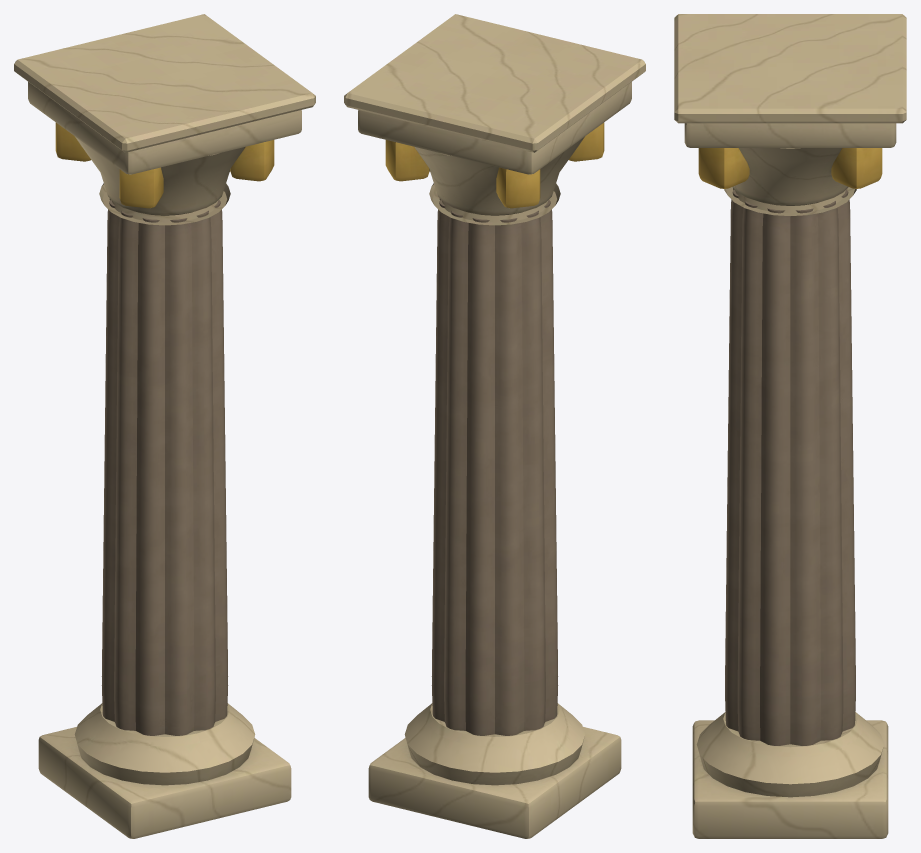
File: column.glb
3 renders of one model, left to right at view 1: azimuth 30°, elevation 25°; view 2: azimuth 150°, elevation 25°; view 3: azimuth 270°, elevation 25°, orthographic. The views are drawn at different scales.
Visible parts, largest first — view 1: column; view 2: column; view 3: column.
Part boxes in pixels (box(x1,y1,x2,y2)): column: box(14, 14, 315, 838); column: box(344, 14, 645, 838); column: box(674, 14, 906, 838).
Size of the model in its own units: 1.14 by 4 by 1.14.
Materials: 1 (1 with a texture image).
